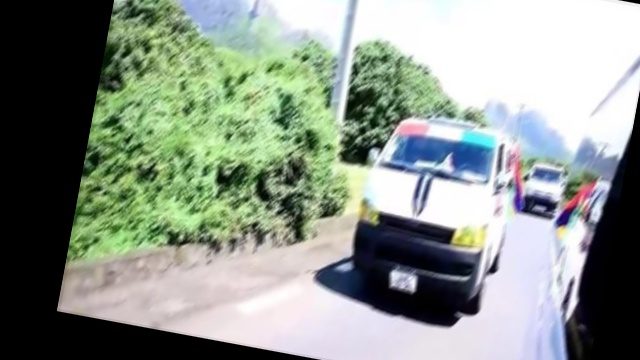van: (338, 107, 528, 317)
